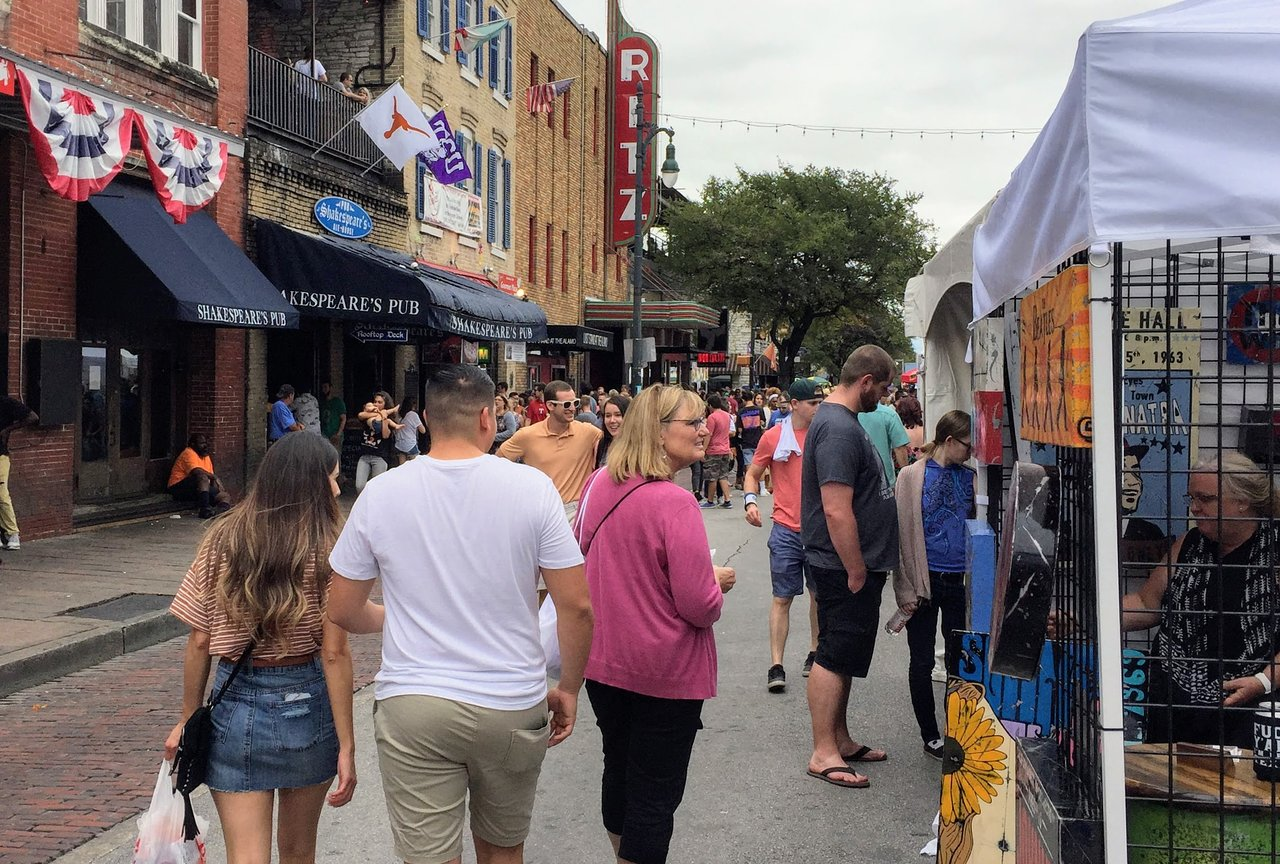person: (320, 360, 595, 864), (164, 427, 368, 864), (571, 377, 751, 863), (789, 340, 920, 795), (1124, 436, 1280, 758), (880, 397, 1013, 762), (741, 374, 829, 703), (495, 374, 604, 514), (159, 433, 229, 513), (704, 390, 743, 502), (352, 393, 398, 484), (599, 393, 631, 443)
